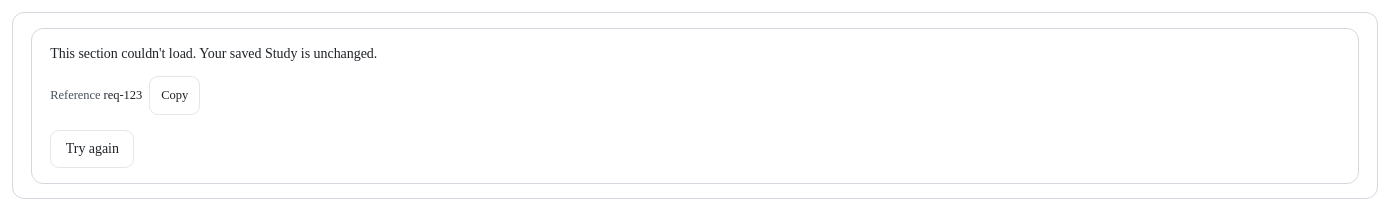
Test: PaneErrorBoundary › tries again by re-rendering and refreshing the page data
The image size is (1378, 216).
Click the button "Try again".
click(92, 149)  # box x1=50 y1=130 x2=134 y2=168
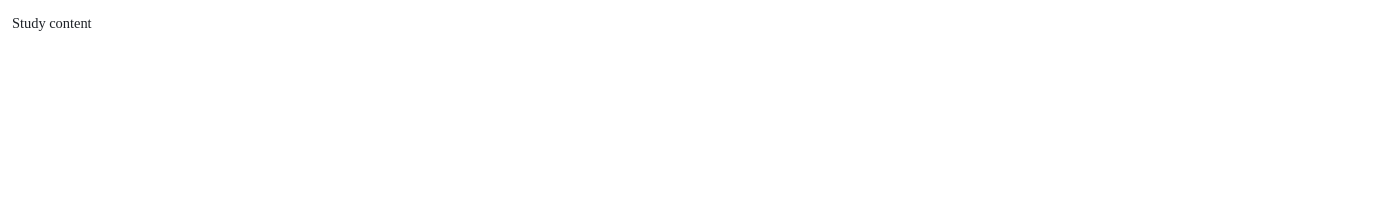
Now the text "Study content" is shown, box x1=12 y1=15 x2=92 y2=31
Now the message "This section couldn't load. Your saved Study is unchanged." is gone
